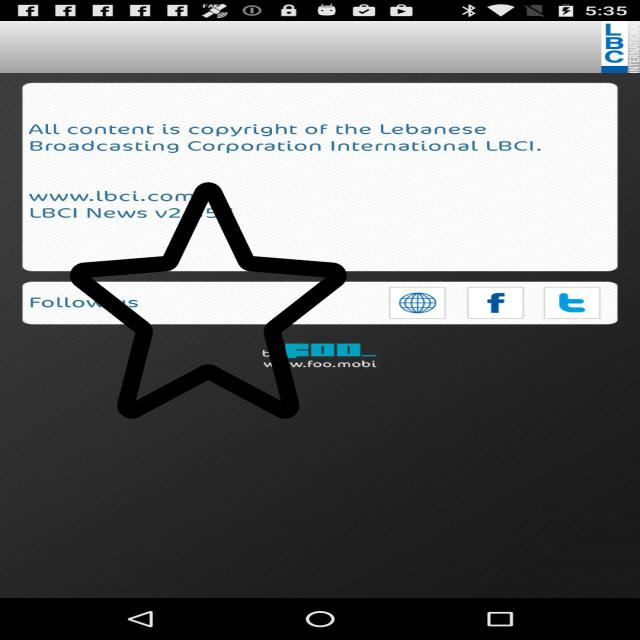forced continuity: (70, 177, 347, 424)
